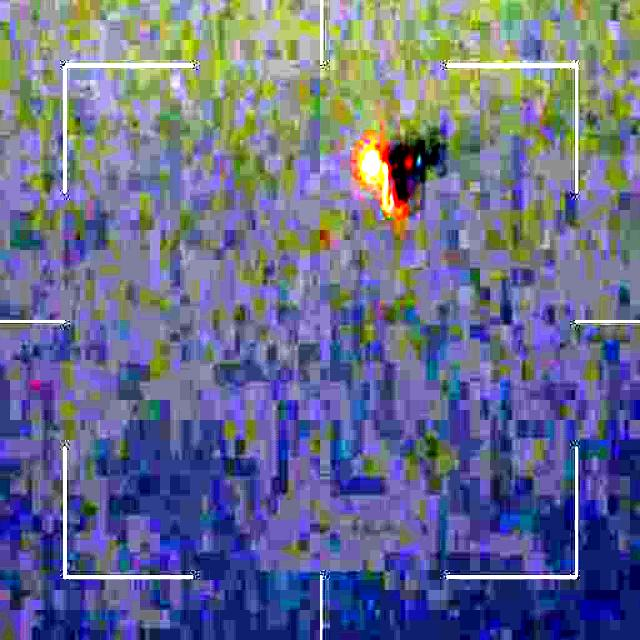bird: (358, 134, 438, 220)
